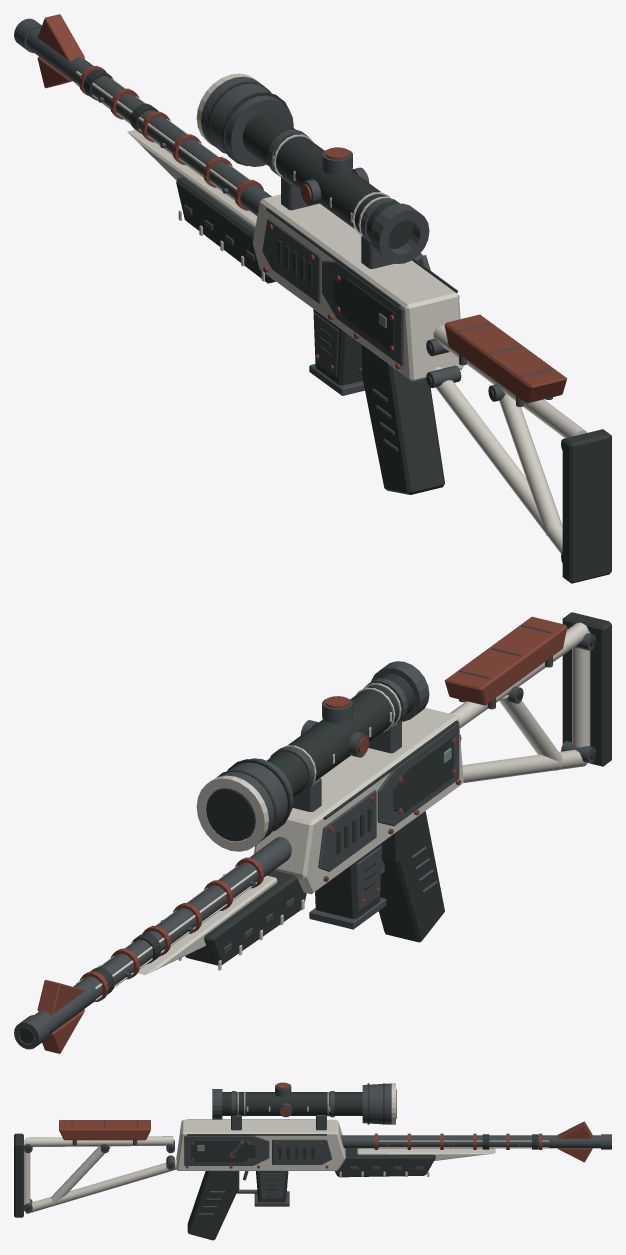
Rendered from sniper_0.glb.
3 renders of one model, top to bottom at view 1: azimuth 30°, elevation 25°; view 2: azimuth 150°, elevation 25°; view 3: azimuth 270°, elevation 25°, orthographic. The views are drawn at different scales.
Parts seen in each view (by area): view 1: Weapon_sniper_v1; view 2: Weapon_sniper_v1; view 3: Weapon_sniper_v1.
Part boxes in pixels (x1,y1,x2,y2): Weapon_sniper_v1: [14, 14, 611, 583]; Weapon_sniper_v1: [14, 612, 611, 1053]; Weapon_sniper_v1: [14, 1082, 611, 1240].
Bounding box in the file's own units: 0.0928 × 0.3041 × 1.09.
